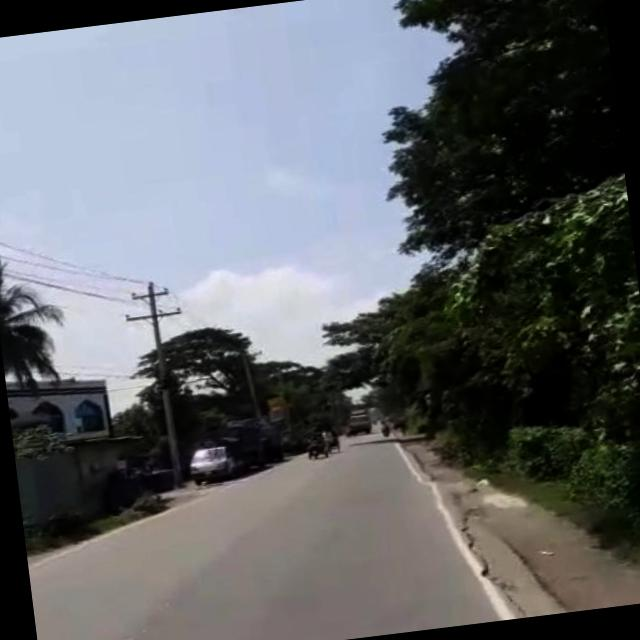motorcycle: (308, 426, 335, 458), (321, 424, 344, 451)
truck: (188, 436, 253, 480)
